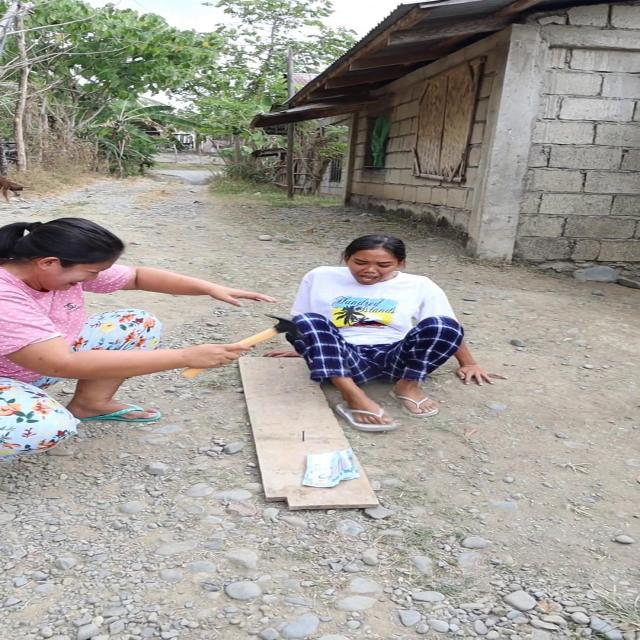hammer: (169, 315, 323, 383)
